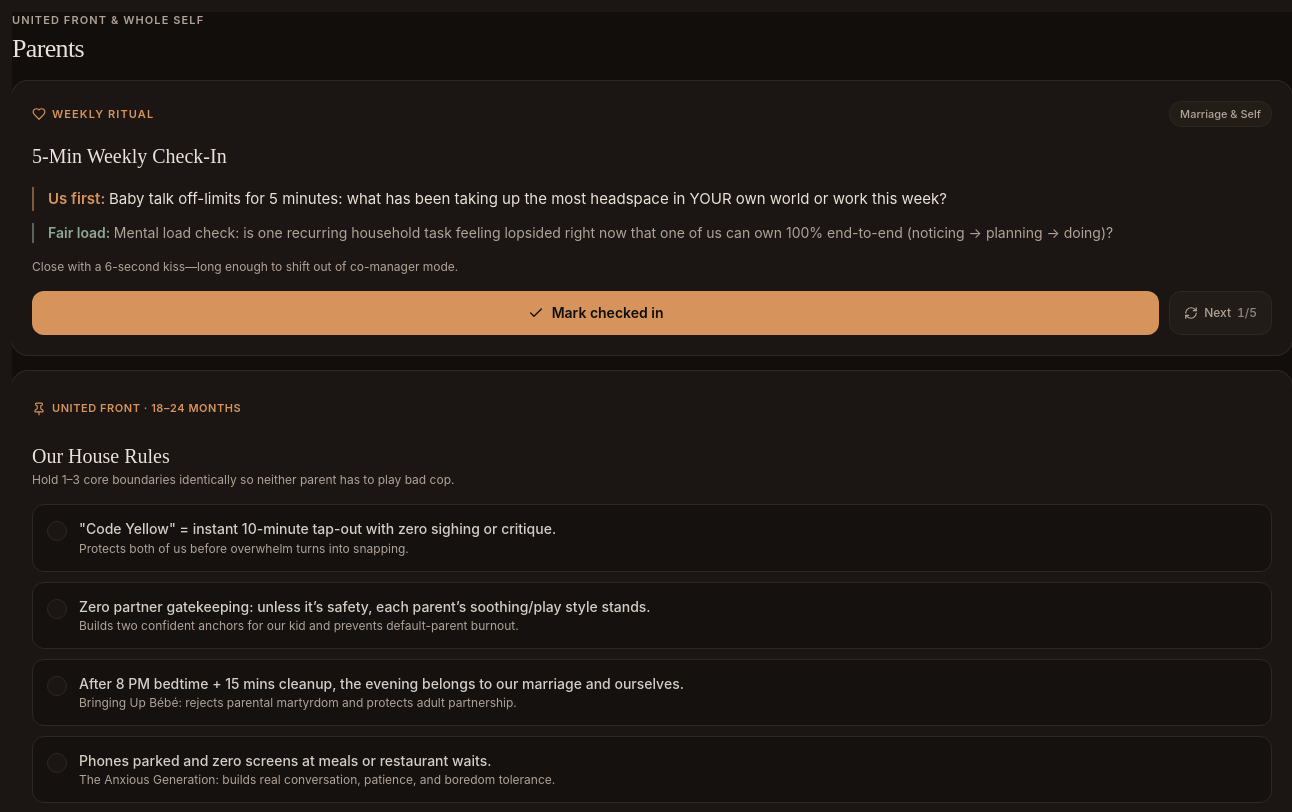
Test: ParentsView › cycles weekly couple check-in prompts and toggles weekly completion cleanly
Check: the heading "Parents" is shown, box [12,34,84,62]
Check: the text "1/5" is shown, box [1237,305,1257,321]
Click the button with aria-label "Next check-in prompt" at (1221, 313), box [1169,291,1272,335]
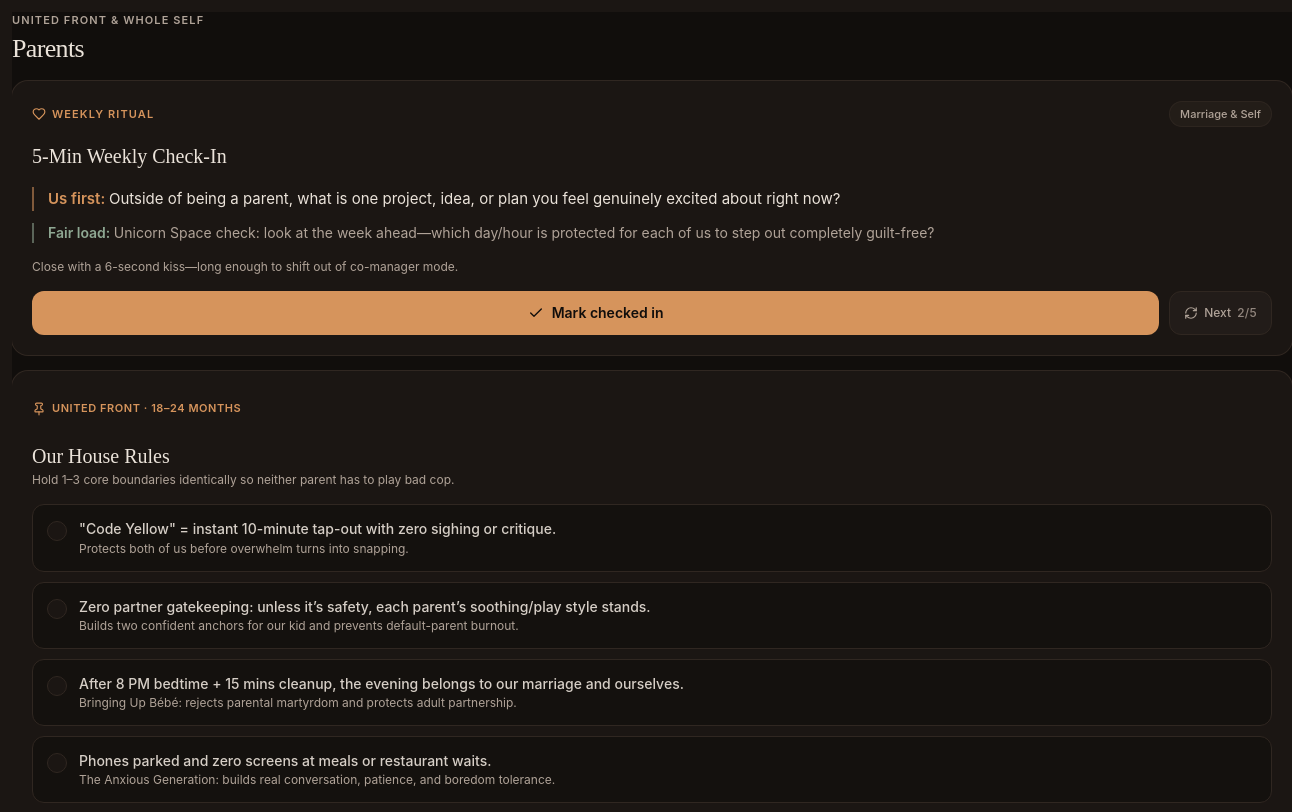
Check: the text "2/5" is shown, box [1237,305,1257,321]
Click the button "Mark checked in" at (596, 313), box [32,291,1159,335]
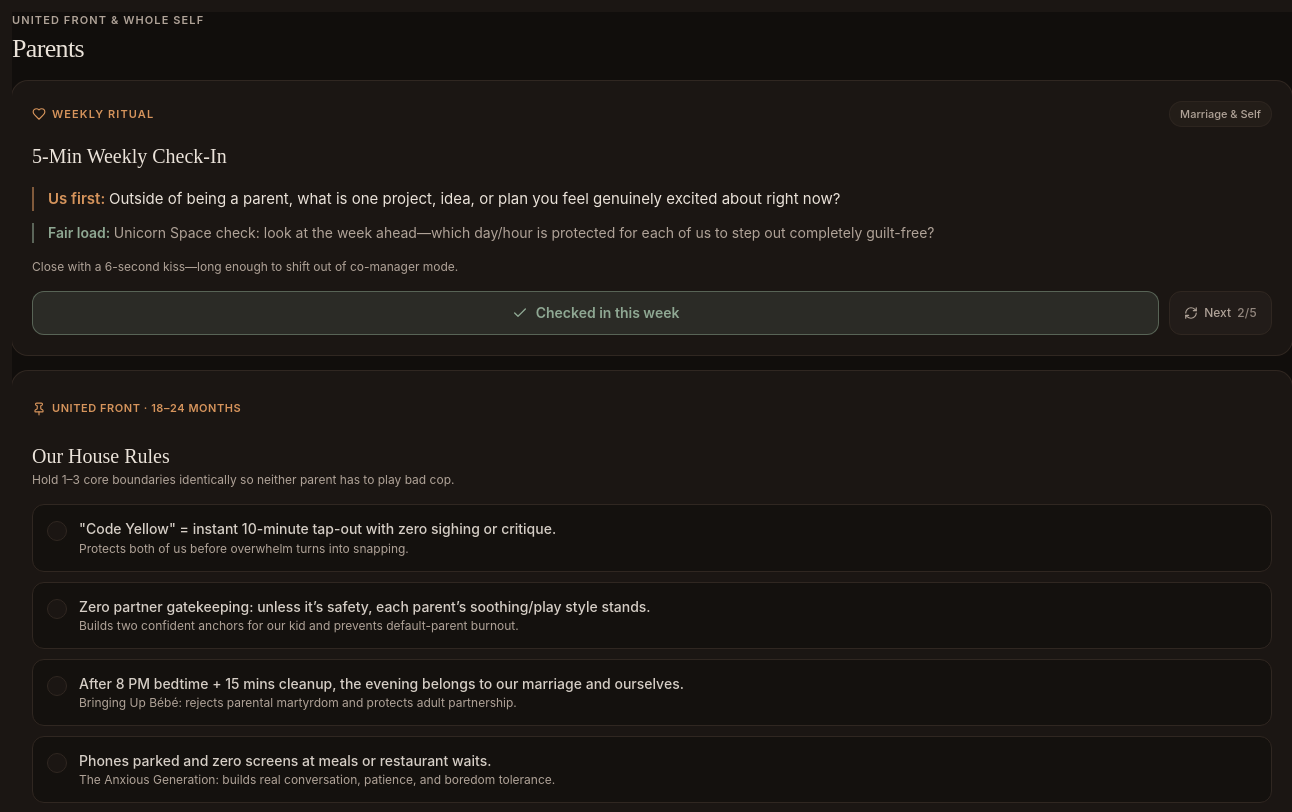
Check: the button "Checked in this week" is pressed, box [32,291,1159,335]
